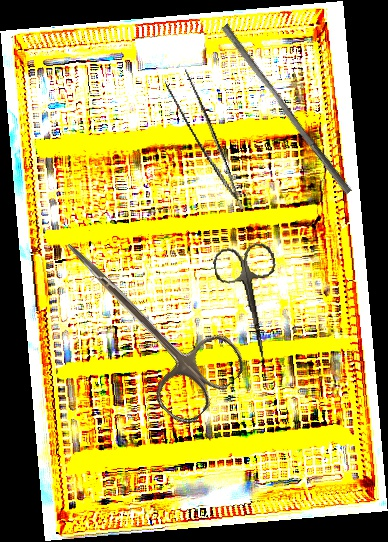Iris Scissors: (31, 213, 253, 431), (211, 240, 292, 367)
Pusher: (215, 23, 359, 195)
Tissue Forceps: (162, 65, 245, 220)
